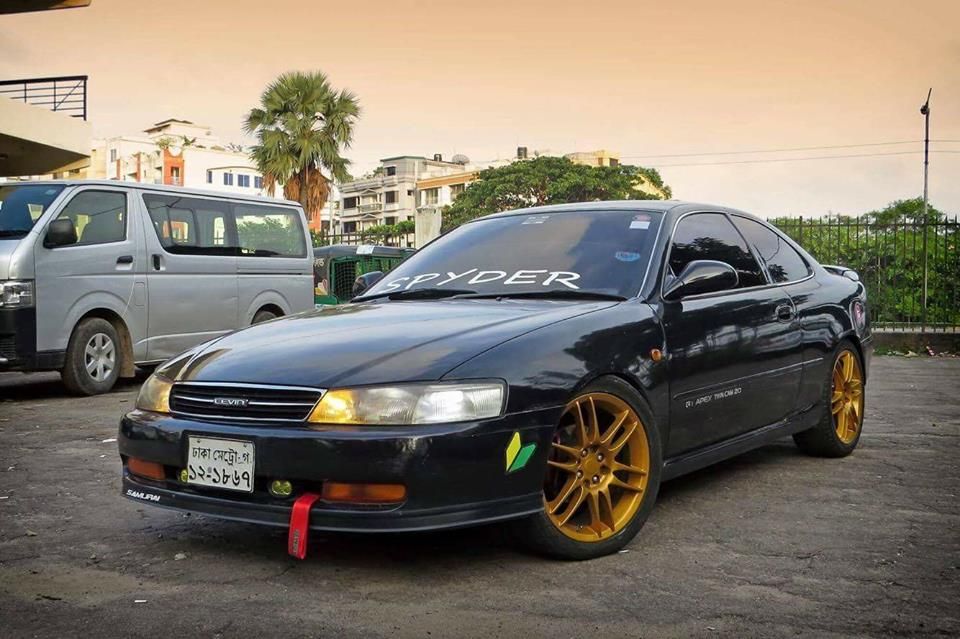registration_plate: (187, 434, 255, 493)
